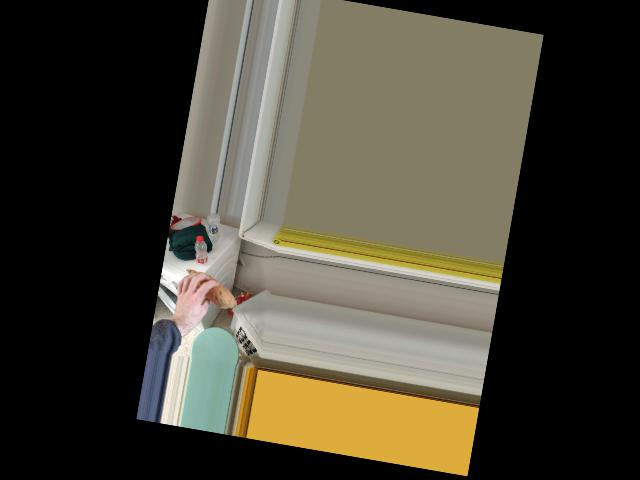sweet_potato: (178, 268, 239, 309)
